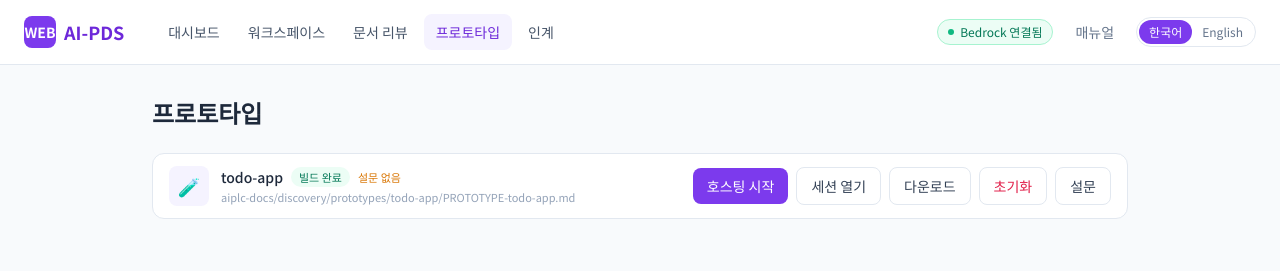
it: Prototypes page › Start hosting refused by an open build session tells the user what to press, on that card
This screenshot has width=1280, height=271.
Expected: the text "todo-app" is shown, [221,167,283,187]
Click the button "호스팅 시작".
click(741, 186)  # box [693,168,788,204]
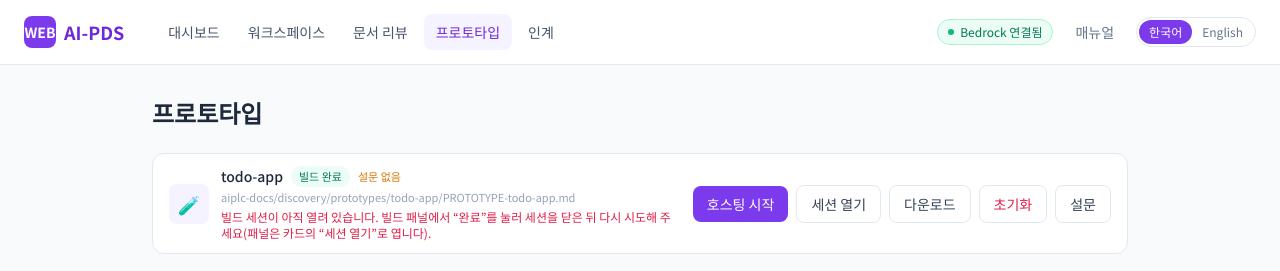
Expected: the message shows "“완료”를 눌러", [221,208,671,241]
Expected: the message shows "“세션 열기”", [221,208,671,241]
